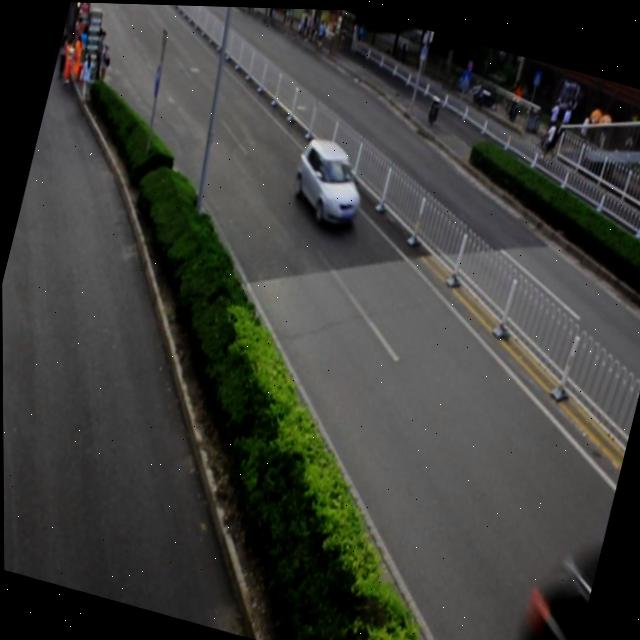car: (284, 130, 372, 233)
